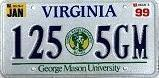placa de veiculo: (1, 0, 157, 78)
